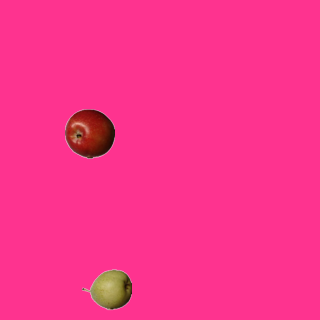Apple Braeburn: (64, 108, 114, 158)
Pear: (81, 264, 131, 314)
